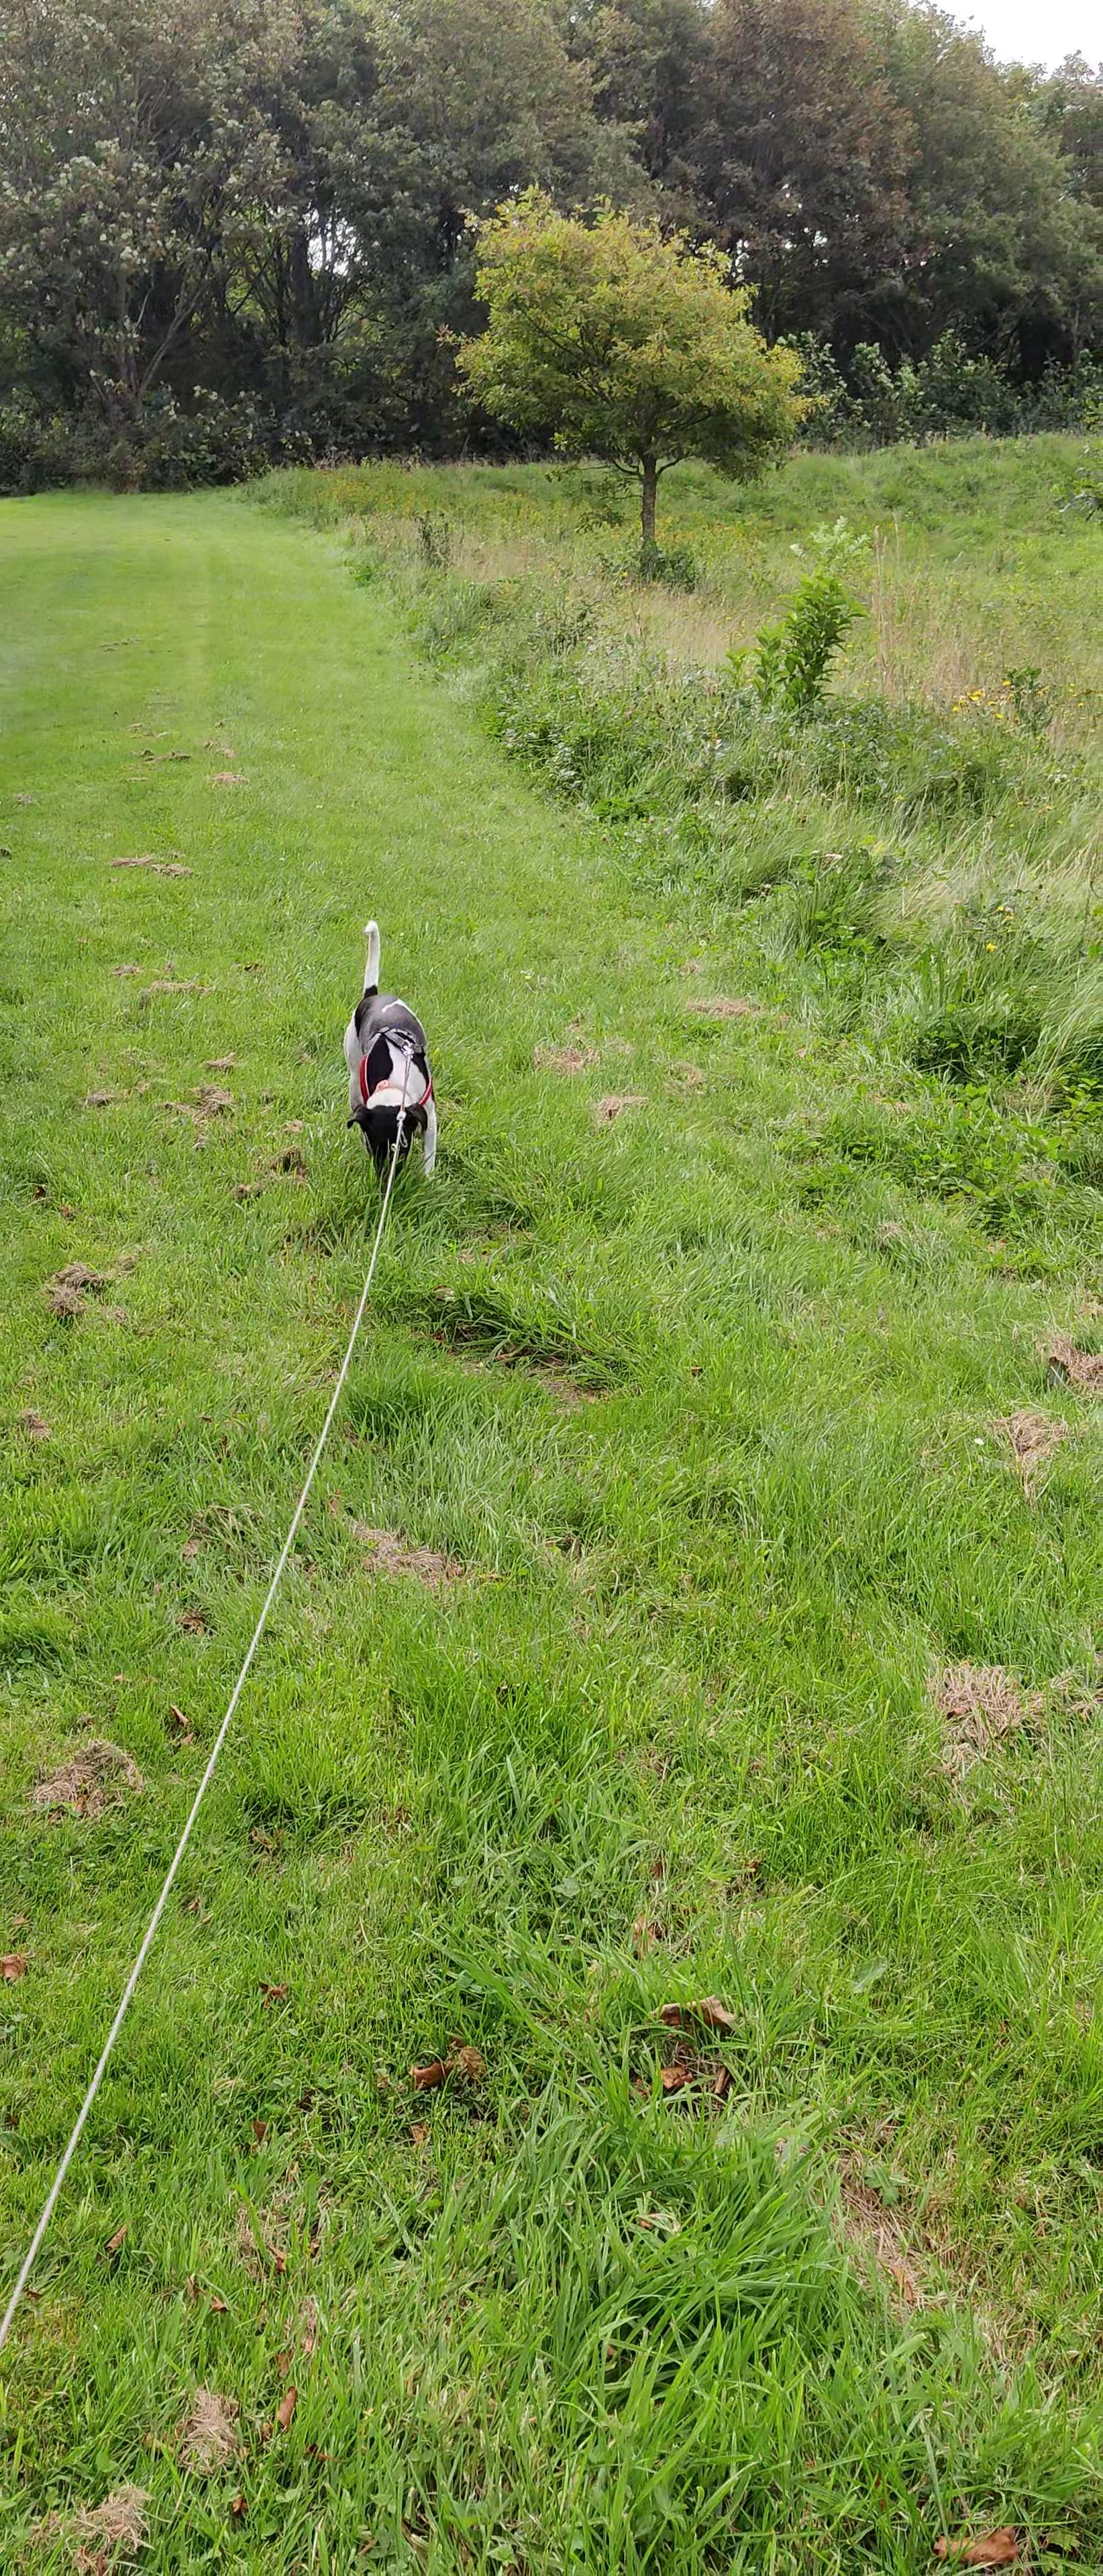Dog: (311, 905, 467, 1212)
